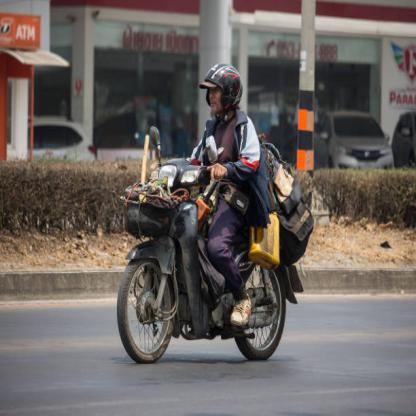Motorcycle: (113, 126, 294, 370)
